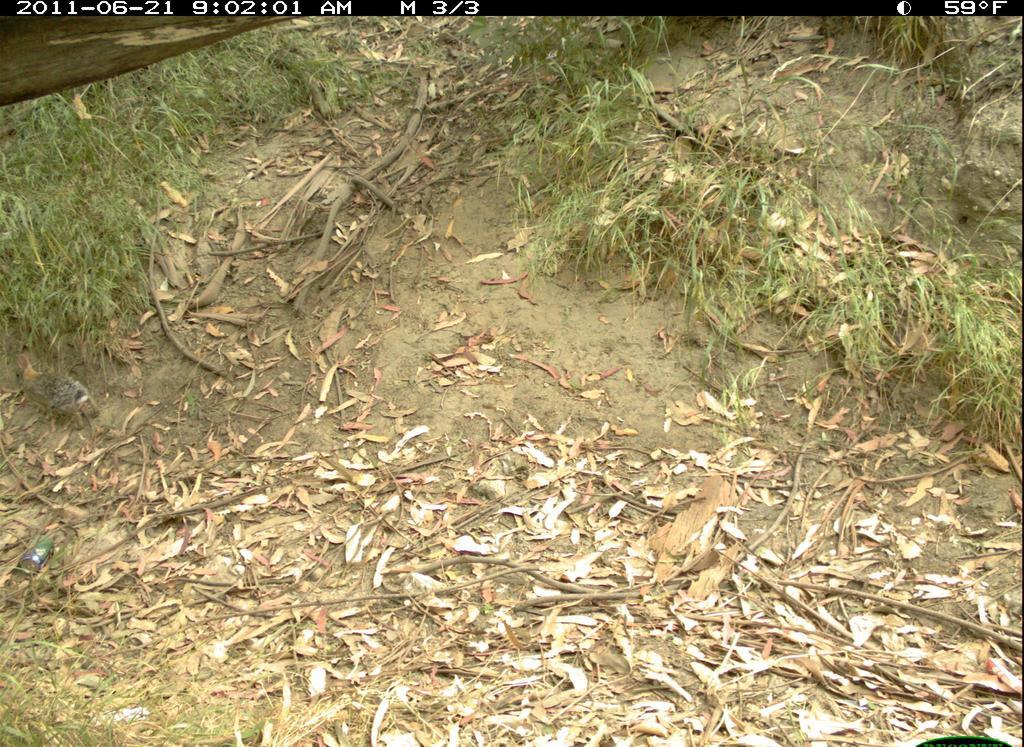rabbit: (9, 341, 108, 433)
